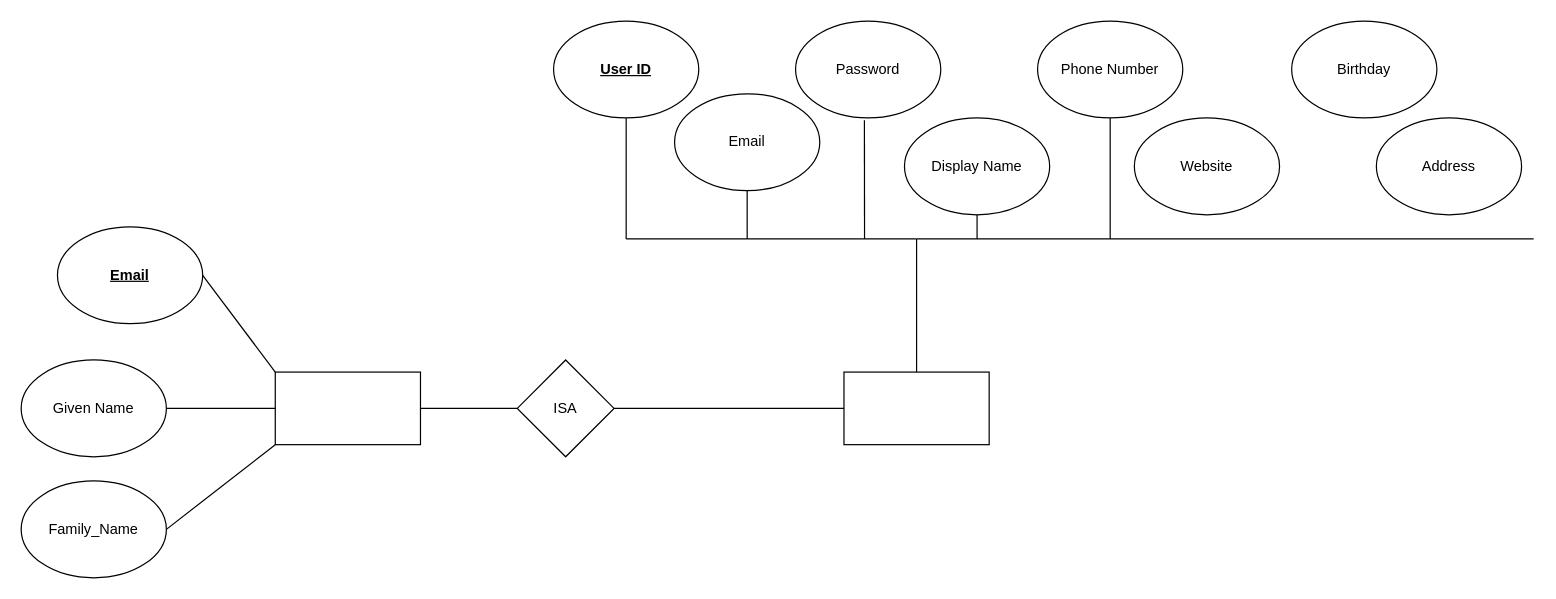
Some shapes in this 1556 by 599 pixel diagram are drawn without their labels. Here are the shapes that lost their labels. From the top down, the centre of each, then its label:
the point at 347,408: Person
the point at 916,408: User
